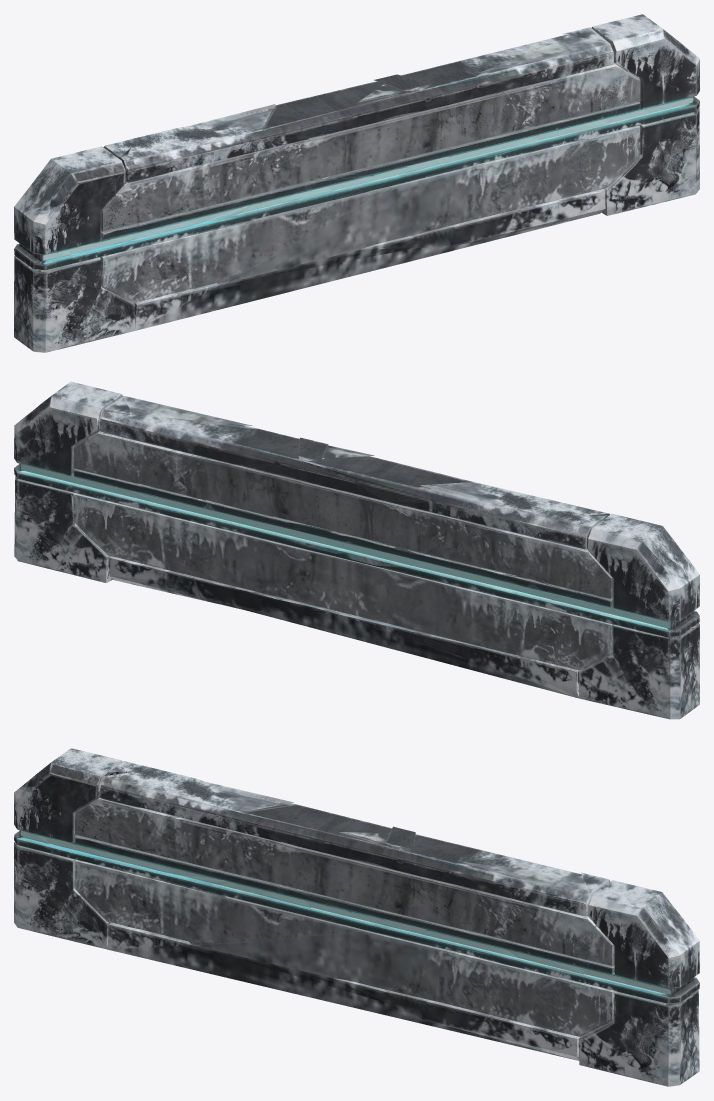
The model's file is prop_barrier-high.glb.
3 views of the same model, one above another, from view 1: azimuth 30°, elevation 25°; view 2: azimuth 150°, elevation 25°; view 3: azimuth 330°, elevation 25° (orthographic).
Visible parts, largest first — view 1: Mesh_0; view 2: Mesh_0; view 3: Mesh_0.
Part boxes in pixels (<box>): Mesh_0: <box>14,14,699,352</box>; Mesh_0: <box>14,381,699,719</box>; Mesh_0: <box>14,748,699,1086</box>.
Bounding box in the file's own units: 1.9 × 0.465 × 0.1398.
Materials: 1 (1 with a texture image).
